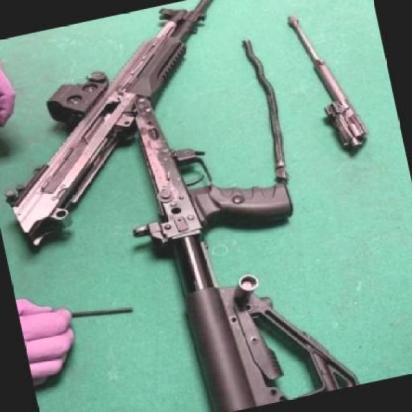Gun: (4, 0, 316, 412)
